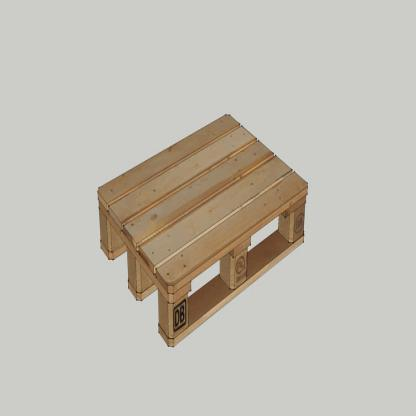BoxFace: (91, 107, 308, 355)
